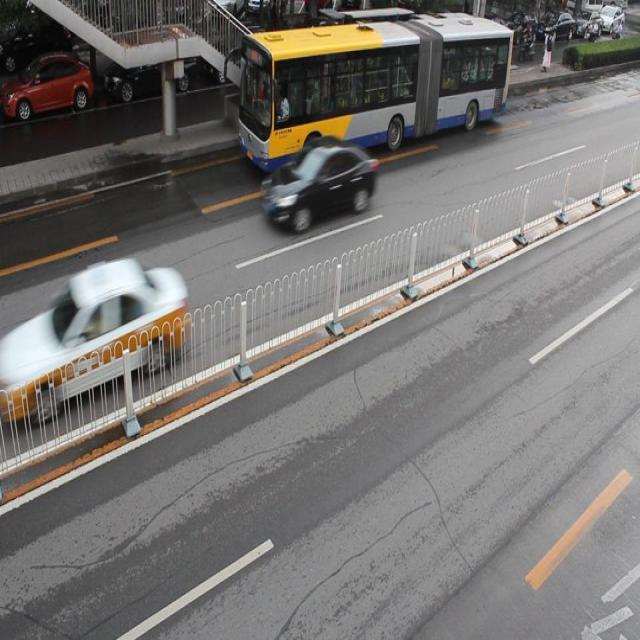car: (26, 256, 186, 408), (263, 135, 377, 232), (1, 52, 92, 119), (103, 38, 194, 97), (205, 23, 270, 86), (288, 23, 355, 77)
van: (239, 10, 511, 170)
